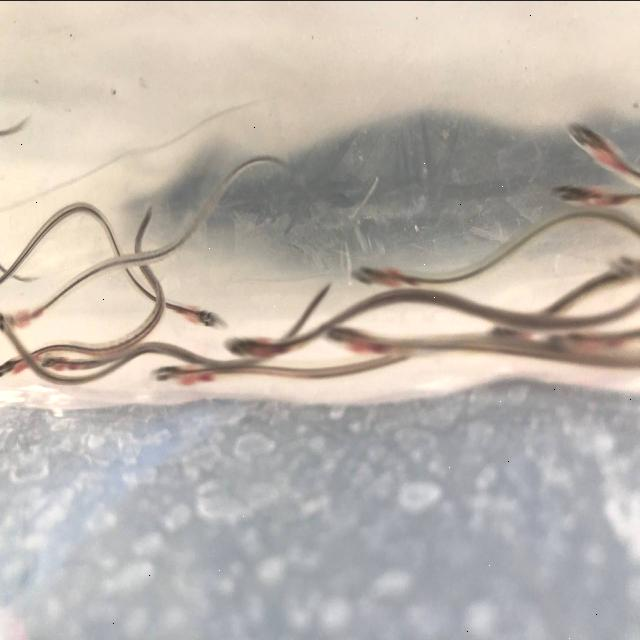glass_eel: (560, 111, 624, 176), (322, 314, 382, 361), (546, 170, 608, 214), (349, 253, 406, 299), (221, 328, 276, 368), (142, 356, 206, 388), (176, 300, 225, 338), (32, 347, 76, 379), (0, 308, 32, 340), (0, 346, 23, 388)
